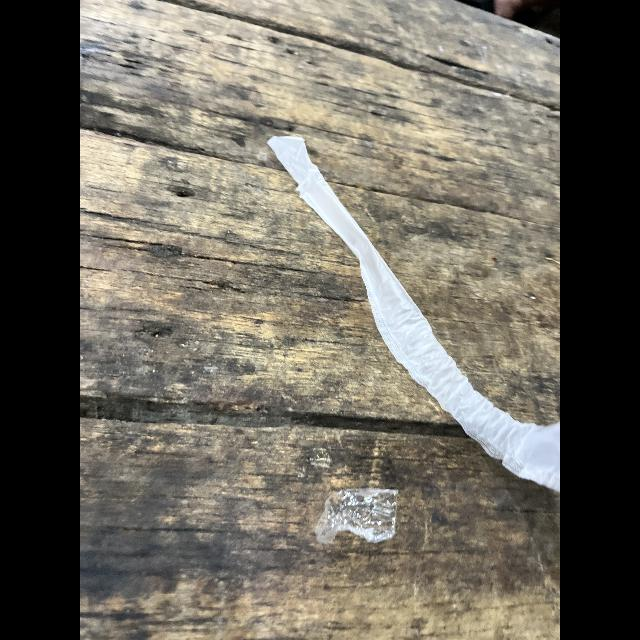scrap_plastic: (314, 482, 402, 546)
